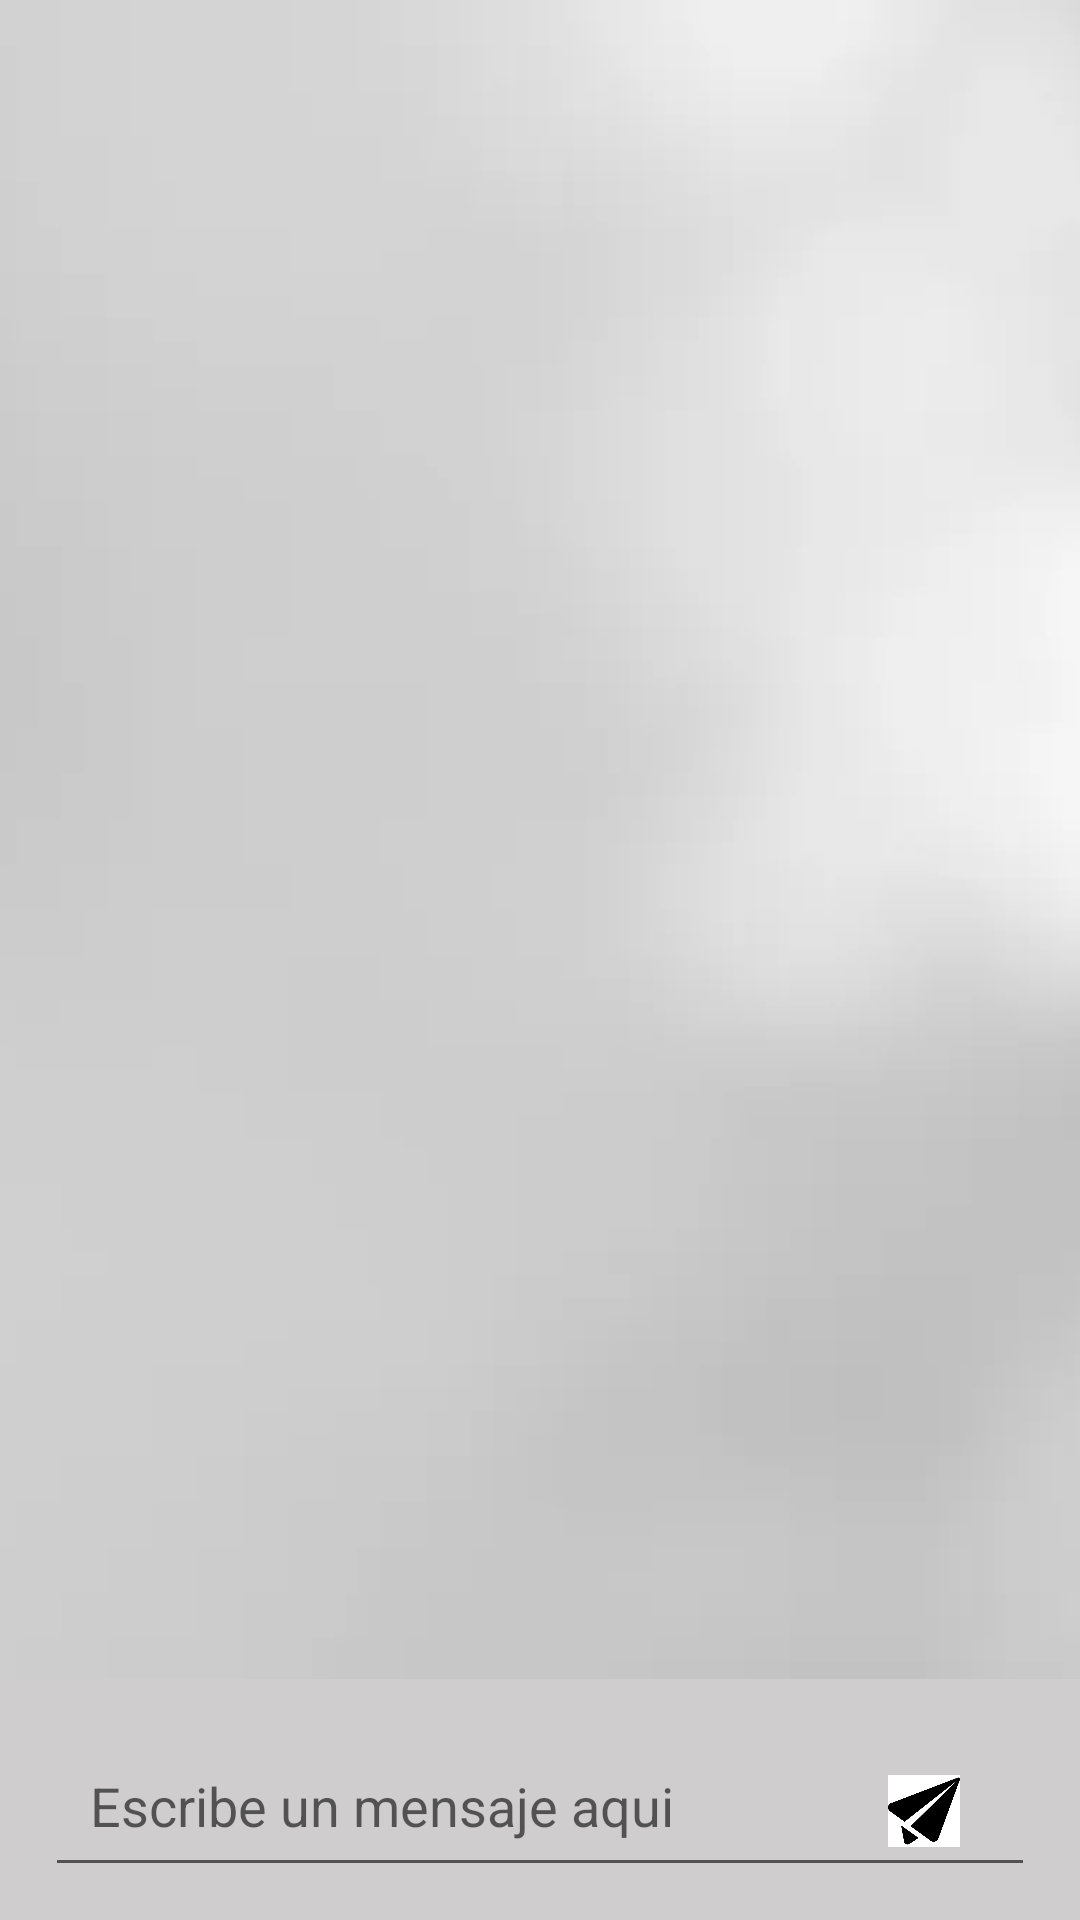

Where icons sit on this 1080*1920 app screen, as (x1, y1, x2, y2):
enviar: (888, 1775, 960, 1847)
